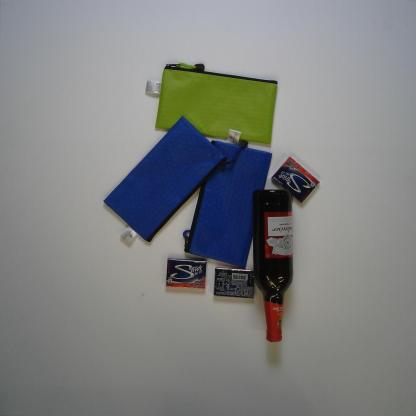Alcohol: (251, 187, 294, 345)
Gum: (271, 156, 321, 203), (212, 266, 255, 300), (164, 257, 208, 290)
Stationery: (102, 112, 250, 246), (182, 138, 274, 269), (143, 60, 279, 147)
